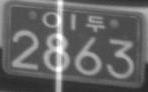0: (42, 10, 62, 28)
1: (64, 12, 82, 30)
2: (12, 28, 38, 70)
3: (106, 37, 135, 79)
6: (74, 36, 102, 77)
8: (42, 32, 71, 73)
두: (86, 14, 105, 32)
